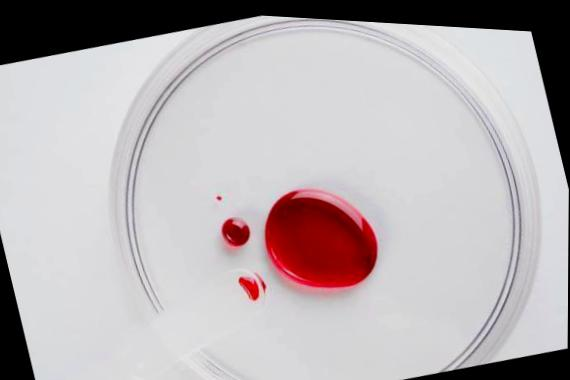Fire: (266, 185, 379, 282), (223, 214, 251, 244), (239, 268, 267, 297), (213, 189, 228, 203)
